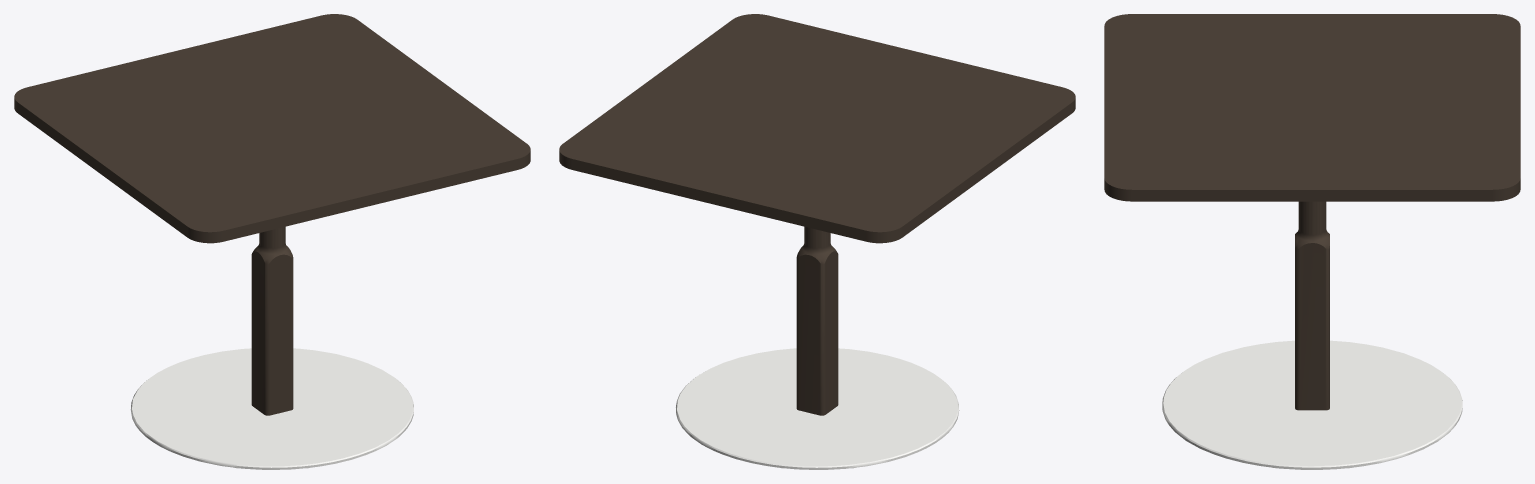
3 views of the same model, side by side, from view 1: azimuth 30°, elevation 25°; view 2: azimuth 150°, elevation 25°; view 3: azimuth 270°, elevation 25° (orthographic). The views are drawn at different scales.
Parts seen in each view (by area): view 1: L_956c6789_1e5a_4cb2_928b_7b80fcdd3e5a_C1_I11, L_a1c35eb5_8430_4ba5_9f1c_68610345e7ff_I13, L_584da2d7_cc1e_4726_8178_782962464571_C1_I4; view 2: L_956c6789_1e5a_4cb2_928b_7b80fcdd3e5a_C1_I11, L_a1c35eb5_8430_4ba5_9f1c_68610345e7ff_I13, L_584da2d7_cc1e_4726_8178_782962464571_C1_I4; view 3: L_956c6789_1e5a_4cb2_928b_7b80fcdd3e5a_C1_I11, L_a1c35eb5_8430_4ba5_9f1c_68610345e7ff_I13, L_584da2d7_cc1e_4726_8178_782962464571_C1_I4.
Boxes of the visible parts, x1,y1,x2,y2 form: L_956c6789_1e5a_4cb2_928b_7b80fcdd3e5a_C1_I11: (14, 14, 530, 243); L_a1c35eb5_8430_4ba5_9f1c_68610345e7ff_I13: (130, 348, 413, 469); L_584da2d7_cc1e_4726_8178_782962464571_C1_I4: (251, 226, 293, 415); L_956c6789_1e5a_4cb2_928b_7b80fcdd3e5a_C1_I11: (559, 14, 1075, 243); L_a1c35eb5_8430_4ba5_9f1c_68610345e7ff_I13: (676, 348, 959, 469); L_584da2d7_cc1e_4726_8178_782962464571_C1_I4: (796, 226, 838, 415); L_956c6789_1e5a_4cb2_928b_7b80fcdd3e5a_C1_I11: (1104, 14, 1520, 201); L_a1c35eb5_8430_4ba5_9f1c_68610345e7ff_I13: (1162, 340, 1462, 469); L_584da2d7_cc1e_4726_8178_782962464571_C1_I4: (1295, 201, 1329, 410).
Size of the model in its own units: 0.9 by 0.73 by 0.9.
